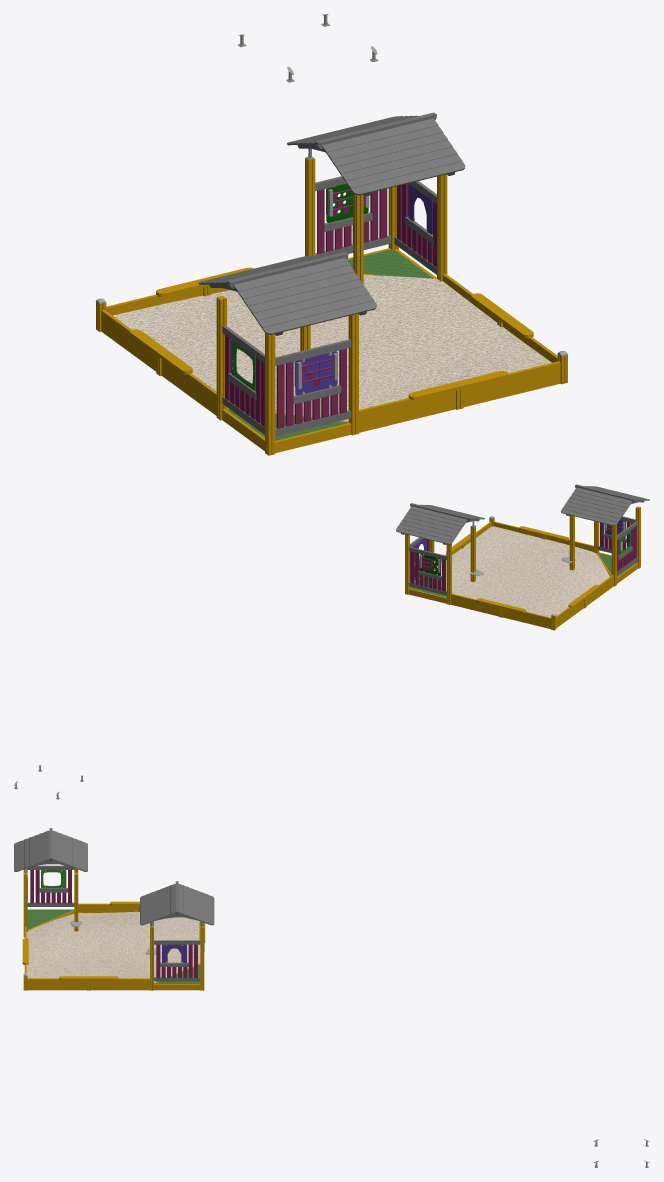
The model's file is sandpit.obj.
3 views of the same model, one above another, from view 1: azimuth 30°, elevation 25°; view 2: azimuth 150°, elevation 25°; view 3: azimuth 270°, elevation 25° (orthographic). The views are drawn at different scales.
Parts seen in each view (by area): view 1: _dSolid, Plane01, _dSolid01; view 2: _dSolid, Plane01, _dSolid01; view 3: _dSolid, Plane01, _dSolid01.
Part boxes in pixels (x1,y1,x2,y2): _dSolid: [96, 112, 568, 455]; Plane01: [113, 274, 551, 421]; _dSolid01: [198, 252, 376, 335]; _dSolid: [396, 503, 640, 630]; Plane01: [434, 526, 609, 617]; _dSolid01: [560, 484, 649, 526]; _dSolid: [22, 865, 214, 990]; Plane01: [26, 911, 200, 978]; _dSolid01: [14, 828, 87, 871].
Size of the model in its own units: 3.79 by 1.75 by 5.95.
Materials: 12 (1 with a texture image).
